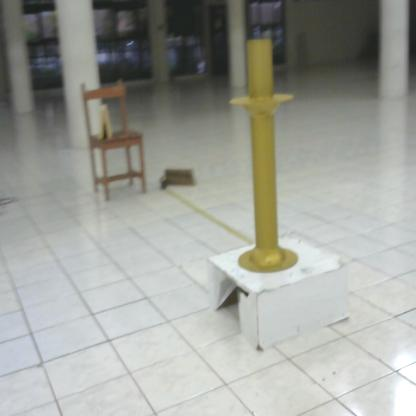pole: (225, 29, 308, 280)
